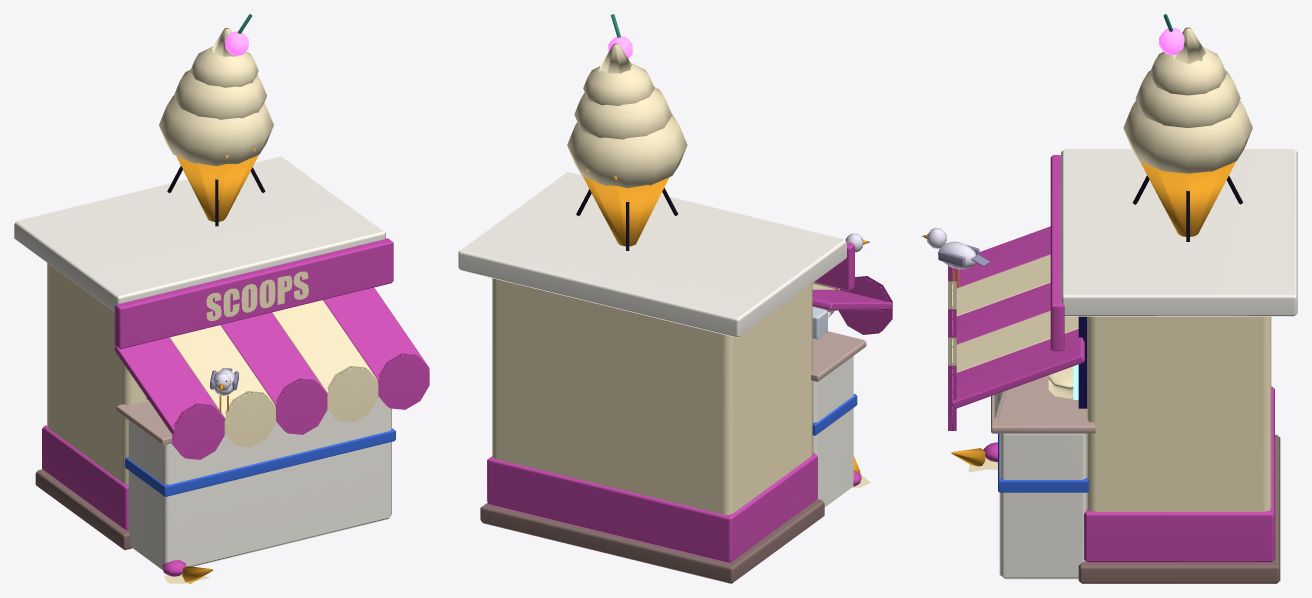
The model's file is ice_cream_stand.glb.
The picture shows the model from 3 angles, left to right: view 1: azimuth 30°, elevation 25°; view 2: azimuth 150°, elevation 25°; view 3: azimuth 270°, elevation 25°; orthographic projection. The views are drawn at different scales.
Visible parts, largest first — view 1: Stand; view 2: Stand; view 3: Stand.
Boxes of the visible parts, box(x1,y1,x2,y2) form: Stand: box(14, 14, 429, 583); Stand: box(458, 14, 892, 583); Stand: box(921, 14, 1297, 583).
Size of the model in its own units: 2.04 by 3.35 by 2.15.
